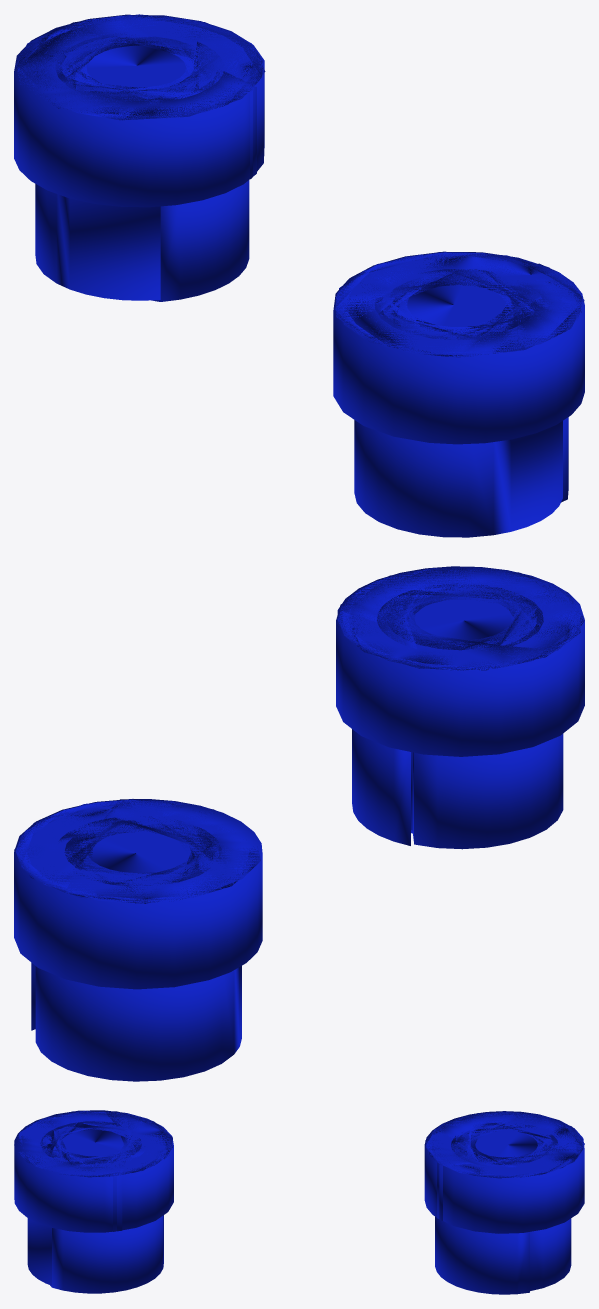
The model's file is tuyeau_element_000079.obj.
3 renders of one model, top to bottom at view 1: azimuth 30°, elevation 25°; view 2: azimuth 150°, elevation 25°; view 3: azimuth 270°, elevation 25°, orthographic. The views are drawn at different scales.
Visible parts, largest first — view 1: tuyeau1_Cube.014, tuyeau2_Cube.017; view 2: tuyeau2_Cube.017, tuyeau1_Cube.014; view 3: tuyeau1_Cube.014, tuyeau2_Cube.017.
Part boxes in pixels (bbox=[...]): tuyeau1_Cube.014: bbox=[14, 14, 265, 301]; tuyeau2_Cube.017: bbox=[333, 251, 584, 537]; tuyeau2_Cube.017: bbox=[336, 566, 584, 849]; tuyeau1_Cube.014: bbox=[14, 799, 262, 1081]; tuyeau1_Cube.014: bbox=[424, 1111, 584, 1294]; tuyeau2_Cube.017: bbox=[14, 1110, 173, 1293].
Size of the model in its own units: 3569 by 2917 by 12557.
